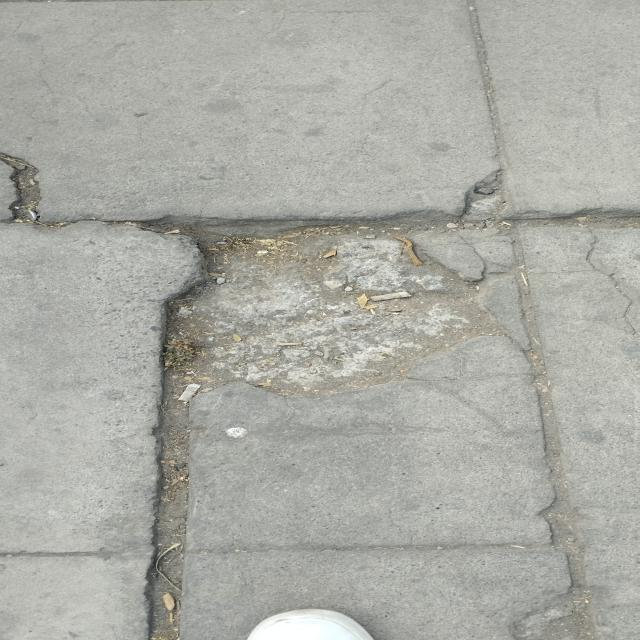hole: (158, 220, 504, 400)
